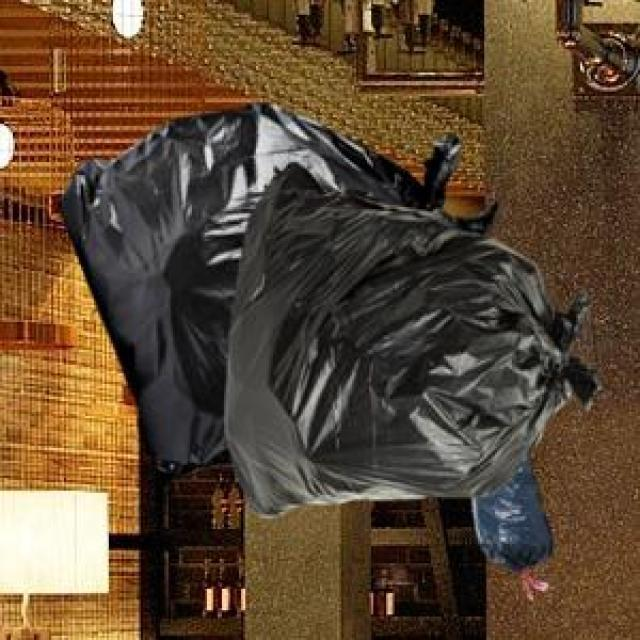Vinyl: (65, 104, 599, 561)
